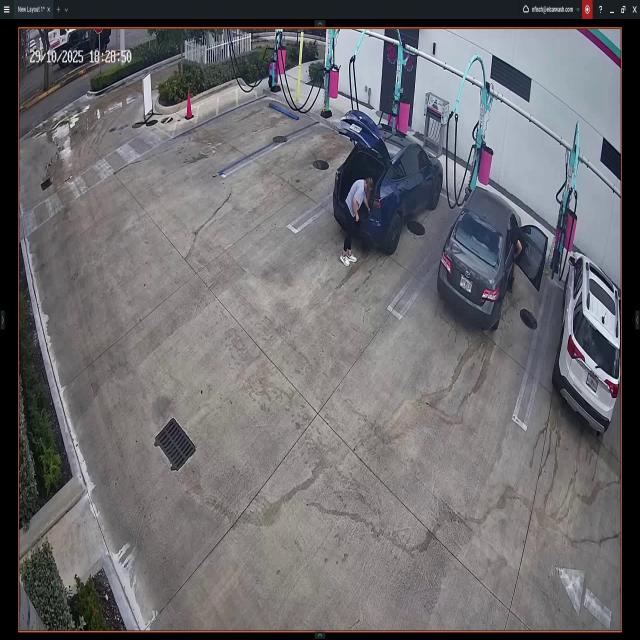Car: (334, 110, 442, 258), (437, 189, 546, 321), (556, 247, 622, 437)
